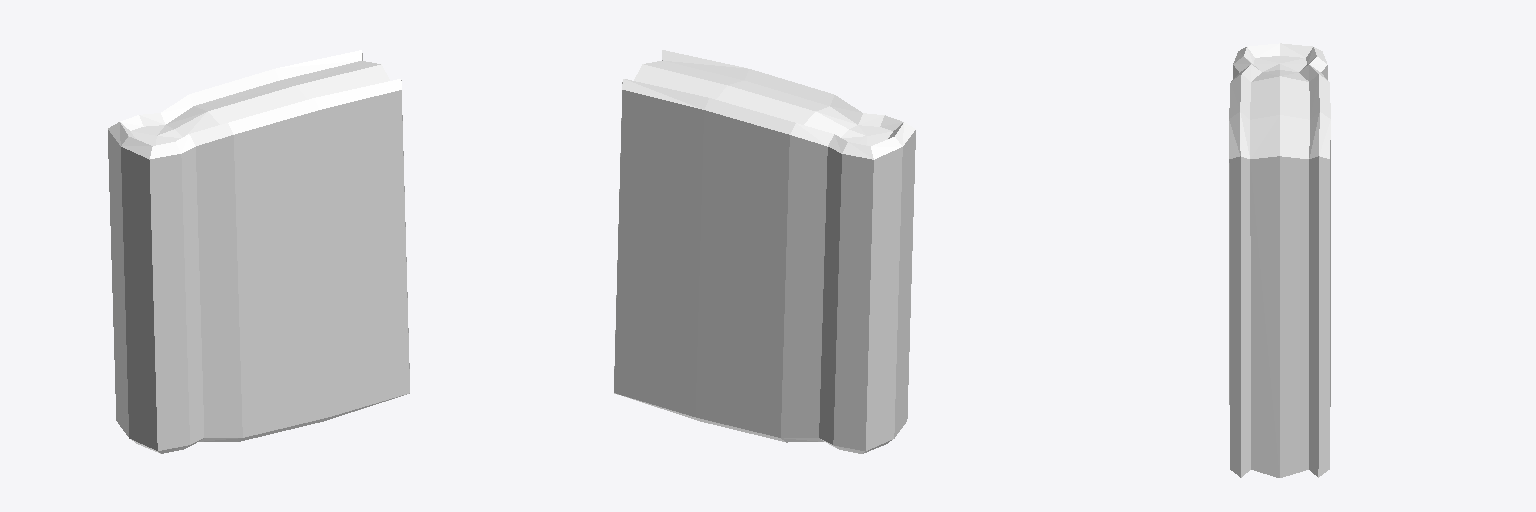
The model's file is Book_free_version.obj.
3 renders of one model, left to right at view 1: azimuth 30°, elevation 25°; view 2: azimuth 150°, elevation 25°; view 3: azimuth 270°, elevation 25°, orthographic.
Visible parts, largest first — view 1: polySurface18; view 2: polySurface18; view 3: polySurface18.
Part boxes in pixels (left/top/right/bottom): polySurface18: left=108, top=50, right=409, bottom=453; polySurface18: left=614, top=50, right=915, bottom=453; polySurface18: left=1229, top=43, right=1330, bottom=477.
Bounding box in the file's own units: 67.38 × 77.88 × 22.02.